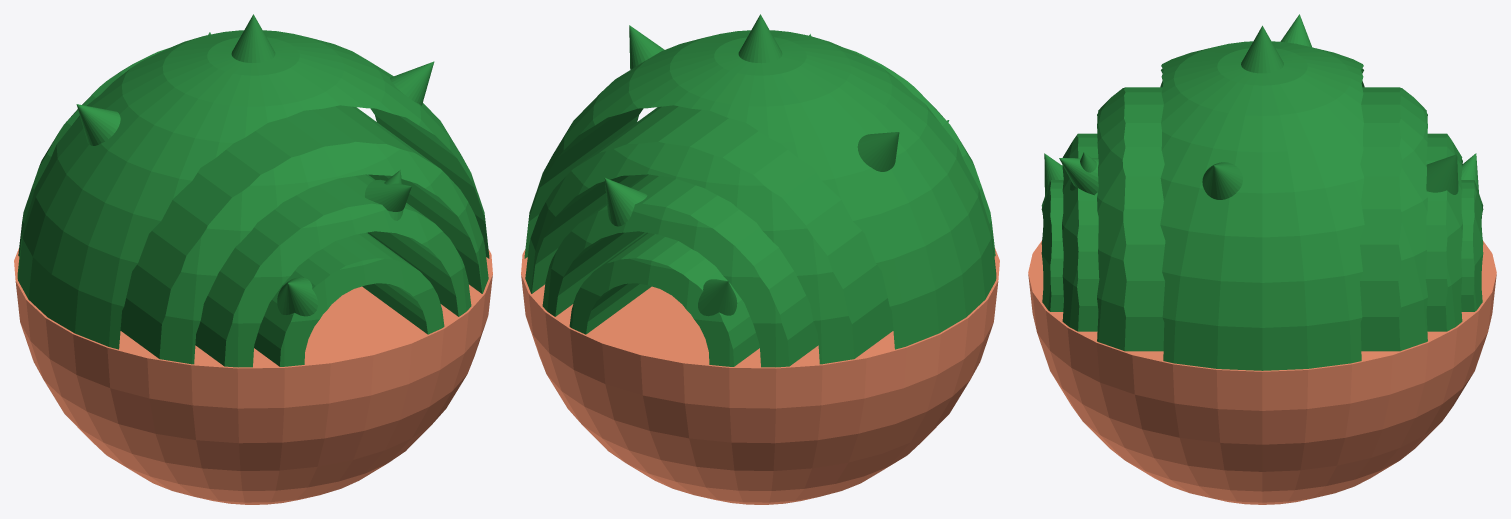
Rendered from cacto-1.glb.
The picture shows the model from 3 angles, left to right: view 1: azimuth 30°, elevation 25°; view 2: azimuth 150°, elevation 25°; view 3: azimuth 270°, elevation 25°; orthographic projection. The views are drawn at different scales.
Visible parts, largest first — view 1: Sphere, Sphere.001, Cone.005, Cone, Cone.001, Cone.006, Cone.002; view 2: Sphere, Sphere.001, Cone.001, Cone, Cone.003, Cone.007, Cone.002; view 3: Sphere, Sphere.001, Cone.002, Cone, Cone.003, Cone.006, Cone.001.
Part boxes in pixels (x1,y1,x2,y2): Sphere: (17,30,489,367); Sphere.001: (14,247,492,504); Cone.005: (277,277,317,316); Cone: (231,14,275,63); Cone.001: (76,104,120,145); Cone.006: (365,179,411,211); Cone.002: (390,61,434,105); Sphere: (524,30,996,367); Sphere.001: (521,247,999,504); Cone.001: (857,132,899,171); Cone: (738,14,782,63); Cone.003: (604,178,647,226); Cone.007: (698,279,737,316); Cone.002: (629,25,664,69); Sphere: (1041,41,1483,370); Sphere.001: (1028,241,1496,504); Cone.002: (1202,162,1242,199); Cone: (1241,25,1283,73); Cone.003: (1426,154,1458,194); Cone.006: (1059,158,1098,195); Cone.001: (1280,14,1311,47).
Size of the model in its own units: 2.02 by 2.18 by 2.02.
